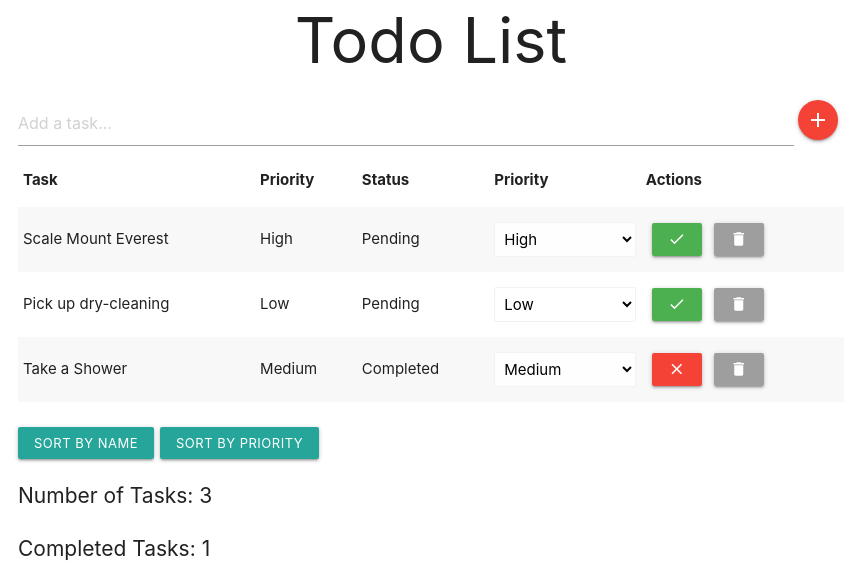
Test: App › should sort the items alphabetically when the sort by name button is clicked
Click the button with id "sort-by-name". click: (86, 443)
box: [18,427,154,459]
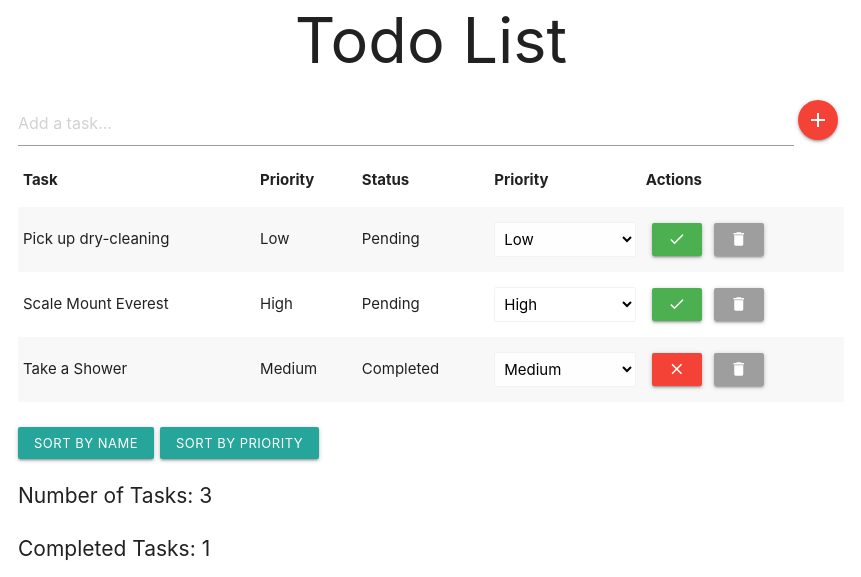
Expected: the row "Take a Shower Medium Completed" is shown, [18,337,844,402]
Expected: the row "Pick up dry-cleaning Low Pending" is shown, [18,207,844,272]
Expected: the row "Scale Mount Everest High Pending" is shown, [18,272,844,337]
